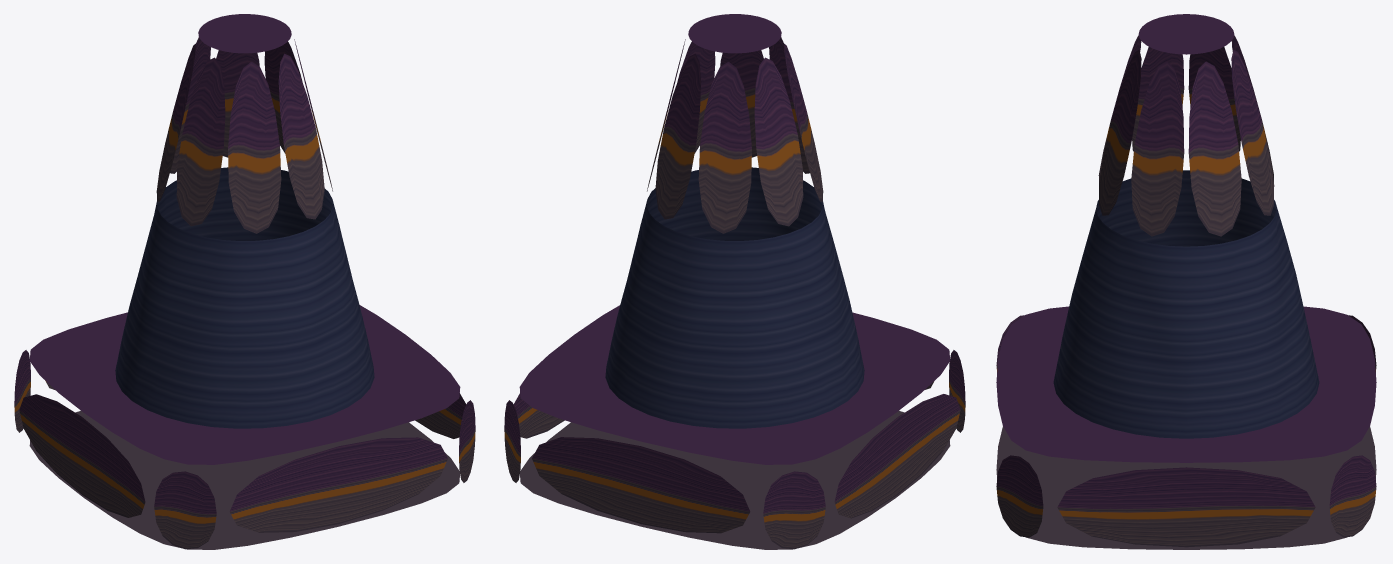
Rendered from construction_cone.glb.
The picture shows the model from 3 angles, left to right: view 1: azimuth 30°, elevation 25°; view 2: azimuth 150°, elevation 25°; view 3: azimuth 270°, elevation 25°; orthographic projection. The views are drawn at different scales.
Visible parts, largest first — view 1: construction_cone; view 2: construction_cone; view 3: construction_cone.
Part boxes in pixels (x1,y1,x2,y2): construction_cone: (14,14,475,549); construction_cone: (504,14,965,549); construction_cone: (996,14,1376,549).
Bounding box in the file's own units: 0.075 × 0.0938 × 0.075.
1 material, 1 textured.
